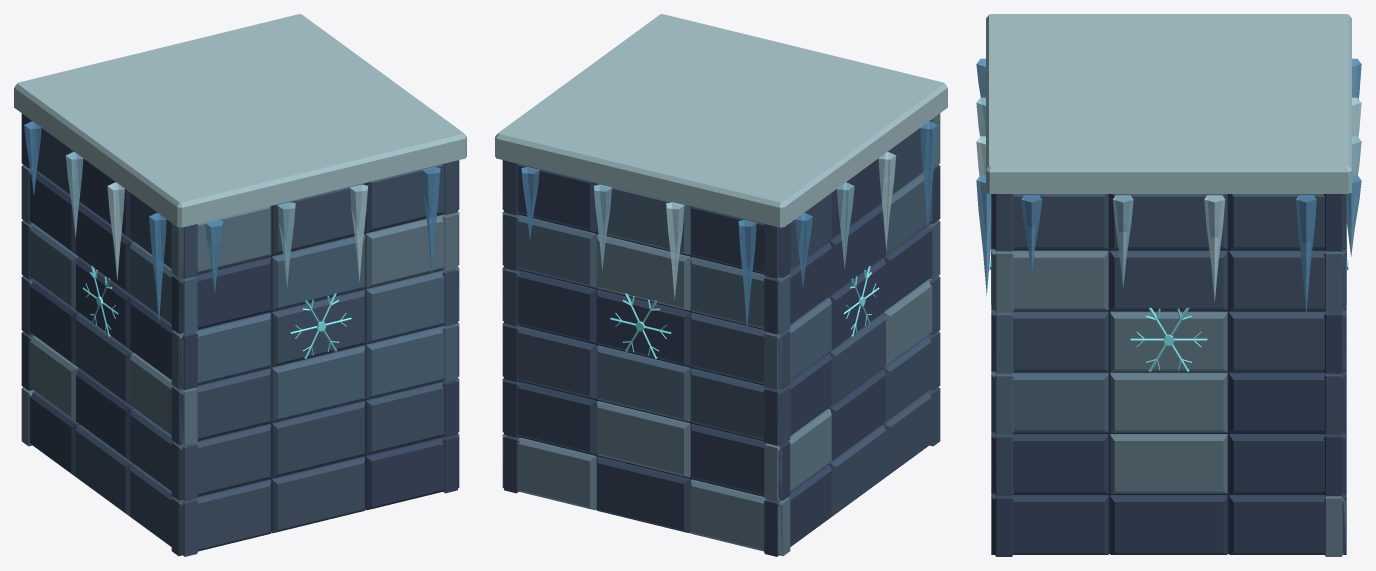
The model's file is wall_c.fbx.
The picture shows the model from 3 angles, left to right: view 1: azimuth 30°, elevation 25°; view 2: azimuth 150°, elevation 25°; view 3: azimuth 270°, elevation 25°; orthographic projection. The views are drawn at different scales.
Visible parts, largest first — view 1: wall_c; view 2: wall_c; view 3: wall_c.
Part boxes in pixels (x1,y1,x2,y2): wall_c: (14, 14, 466, 556); wall_c: (495, 14, 947, 556); wall_c: (976, 14, 1361, 556).
Size of the model in its own units: 4 by 4.5 by 4.
